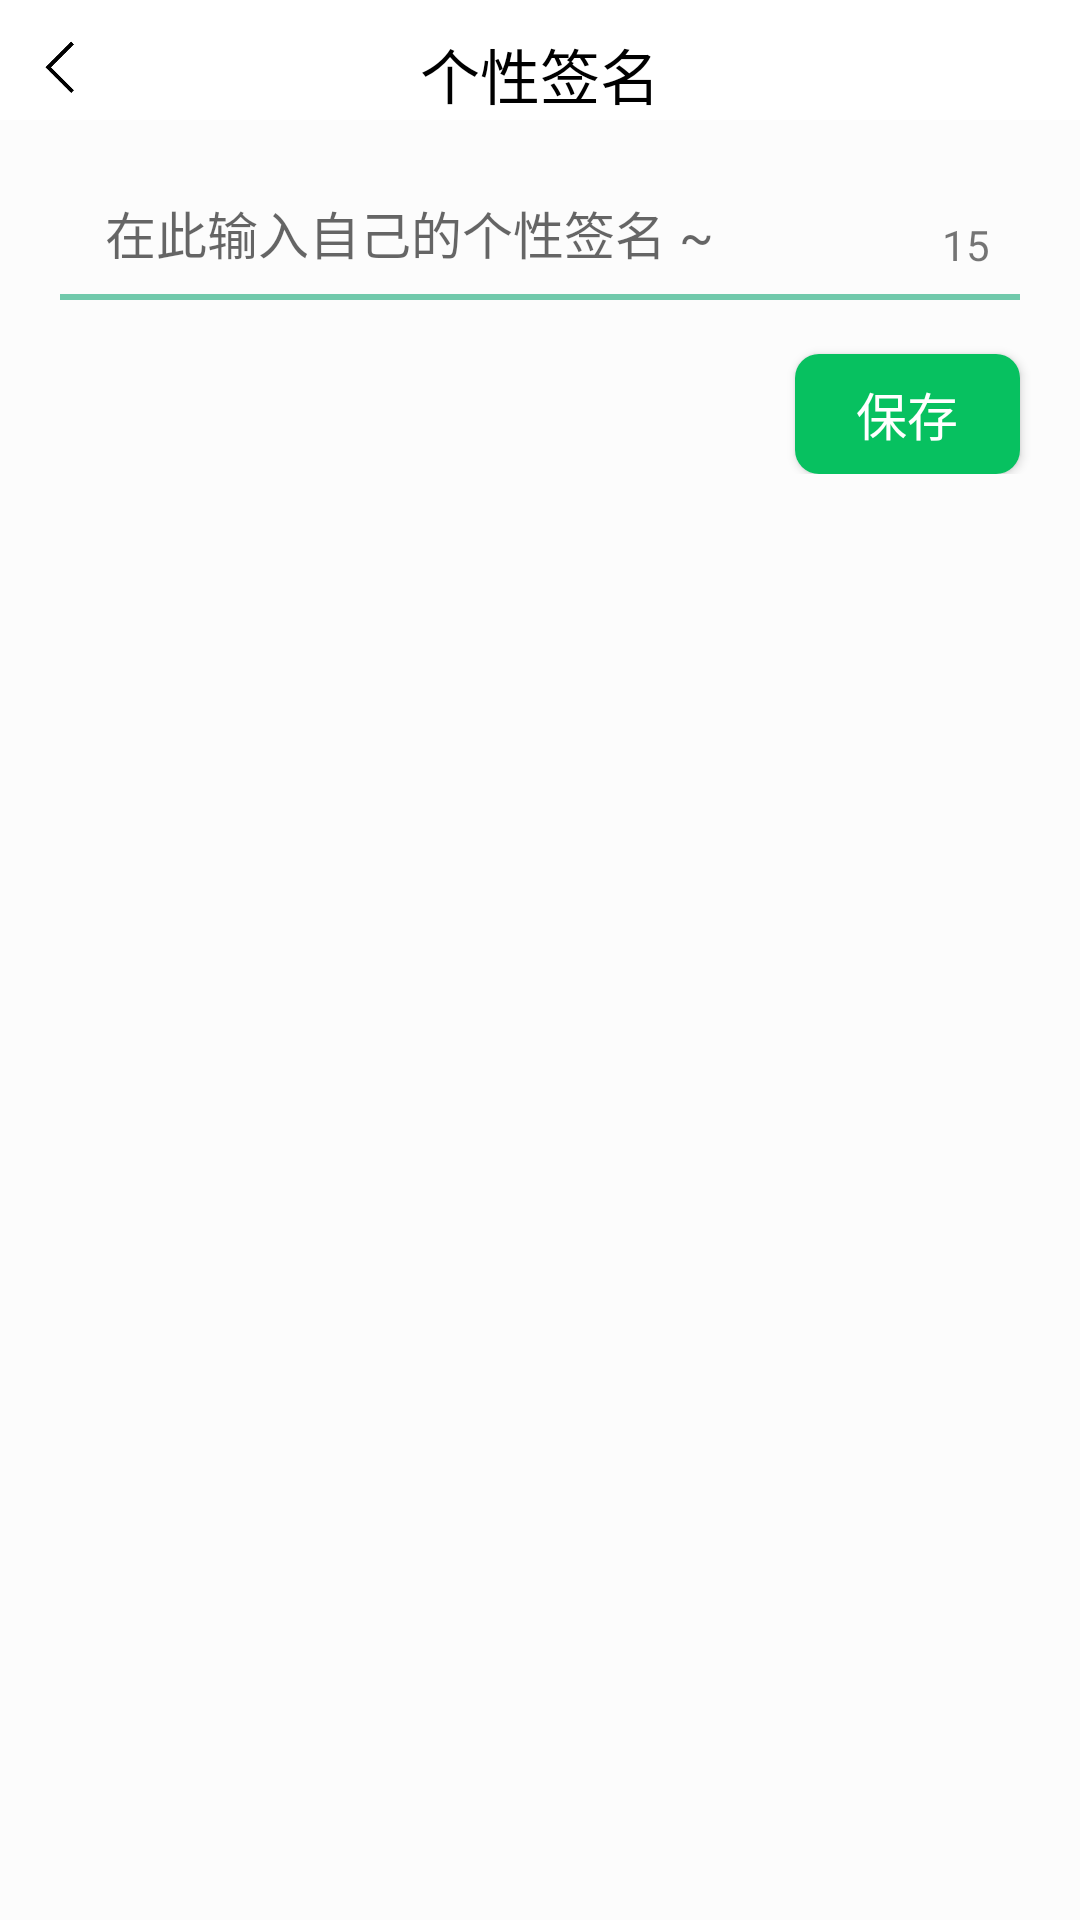

Where icons sit on this 1080x1920 app screen, as BBox(x1, y1, x2, y2):
return: BBox(45, 42, 74, 93)
